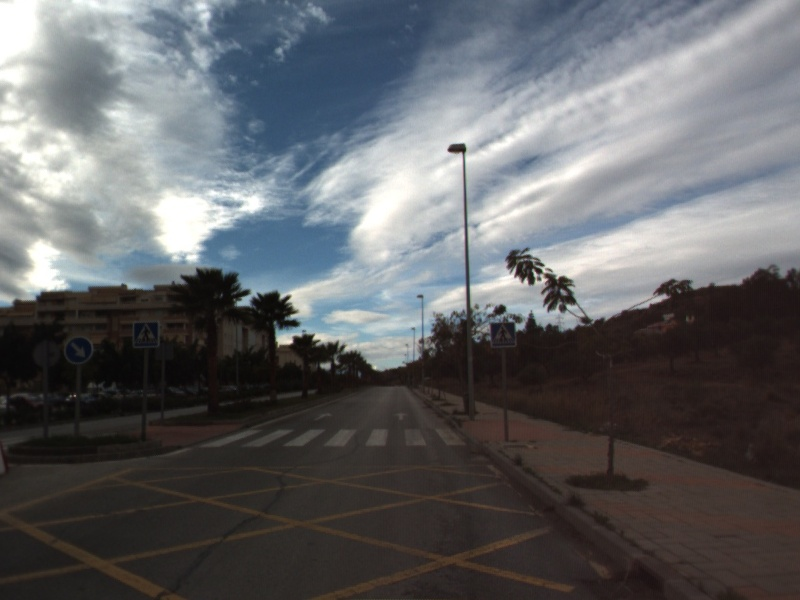STRAIGHT: (312, 410, 335, 422), (392, 410, 410, 422)
